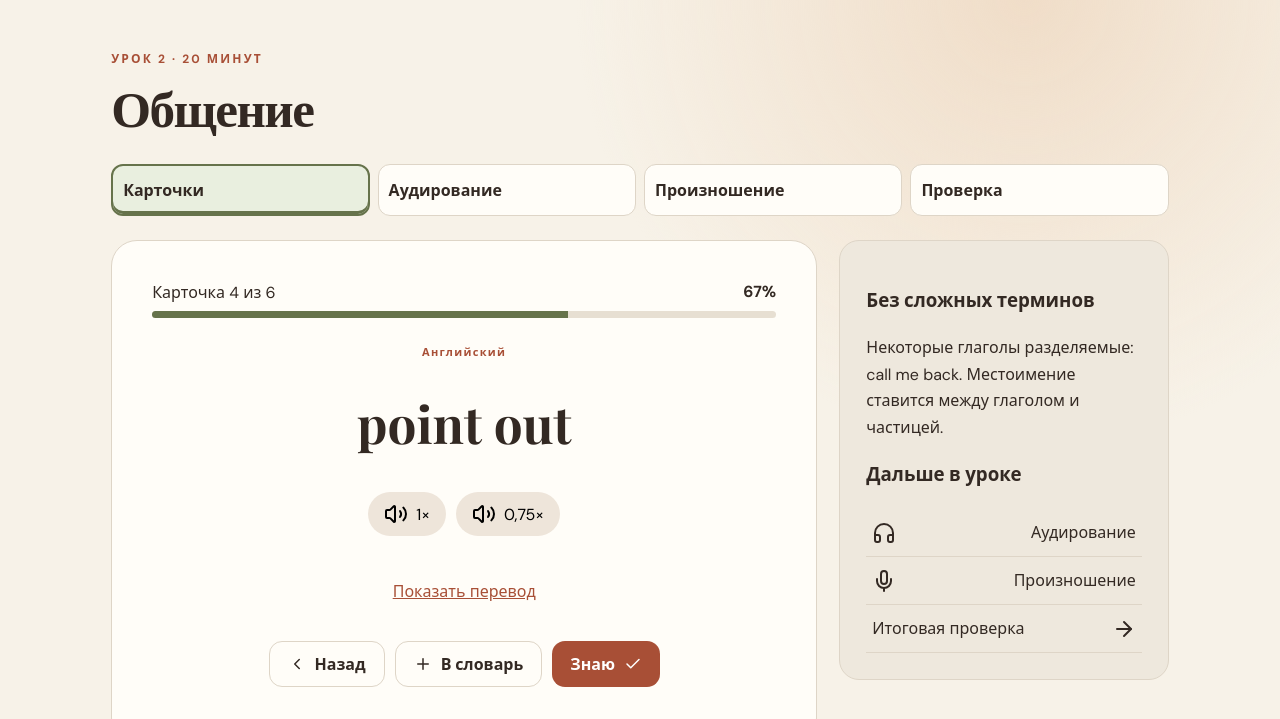
Test case: shows the example translation and card-specific checked missions, refreshing session on Know
Check: the heading "point out" is shown, box left=357, top=389, right=572, bottom=457
Step 1. Click the button "Показать перевод" → (464, 591), box left=387, top=569, right=542, bottom=613
(page scrolled)
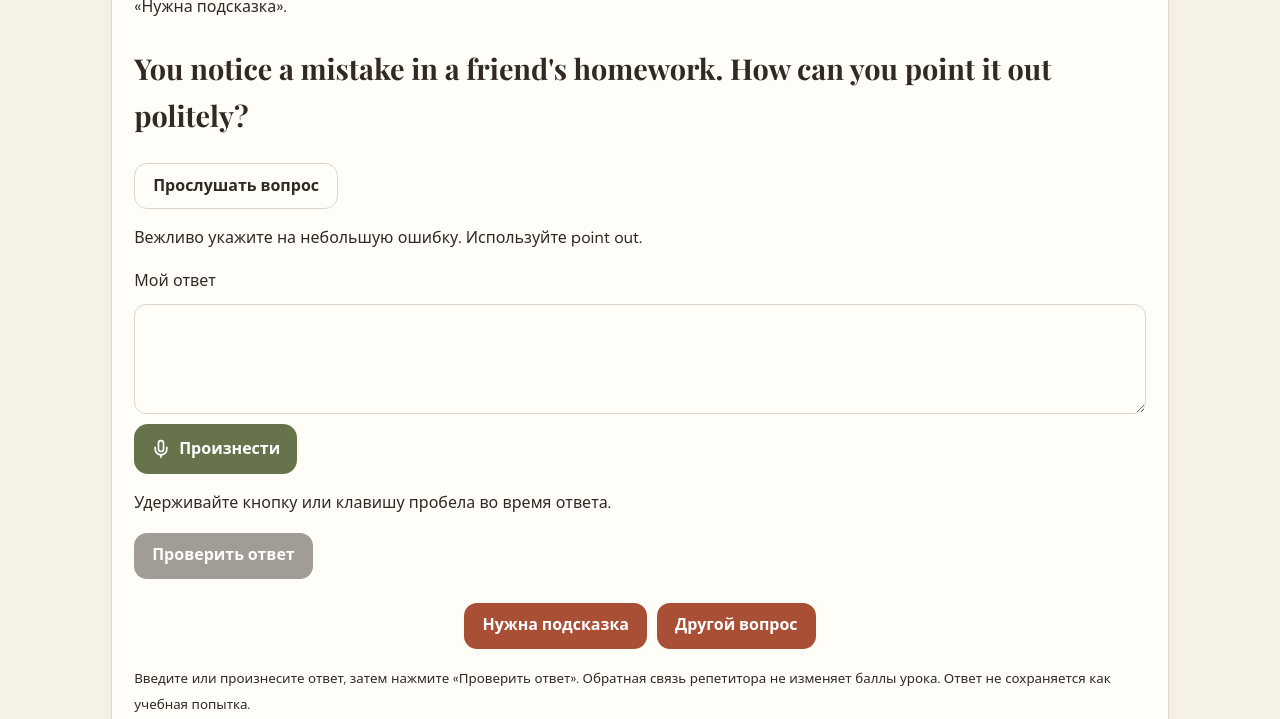
Check: the heading "You notice a mistake" is shown, box left=134, top=44, right=1146, bottom=140
Check: the button "Проверить ответ" is disabled, box left=134, top=533, right=313, bottom=579
Step 2. Type "Can I point out a mistake?" into the text box → (640, 359), box left=134, top=304, right=1146, bottom=414
(page scrolled)
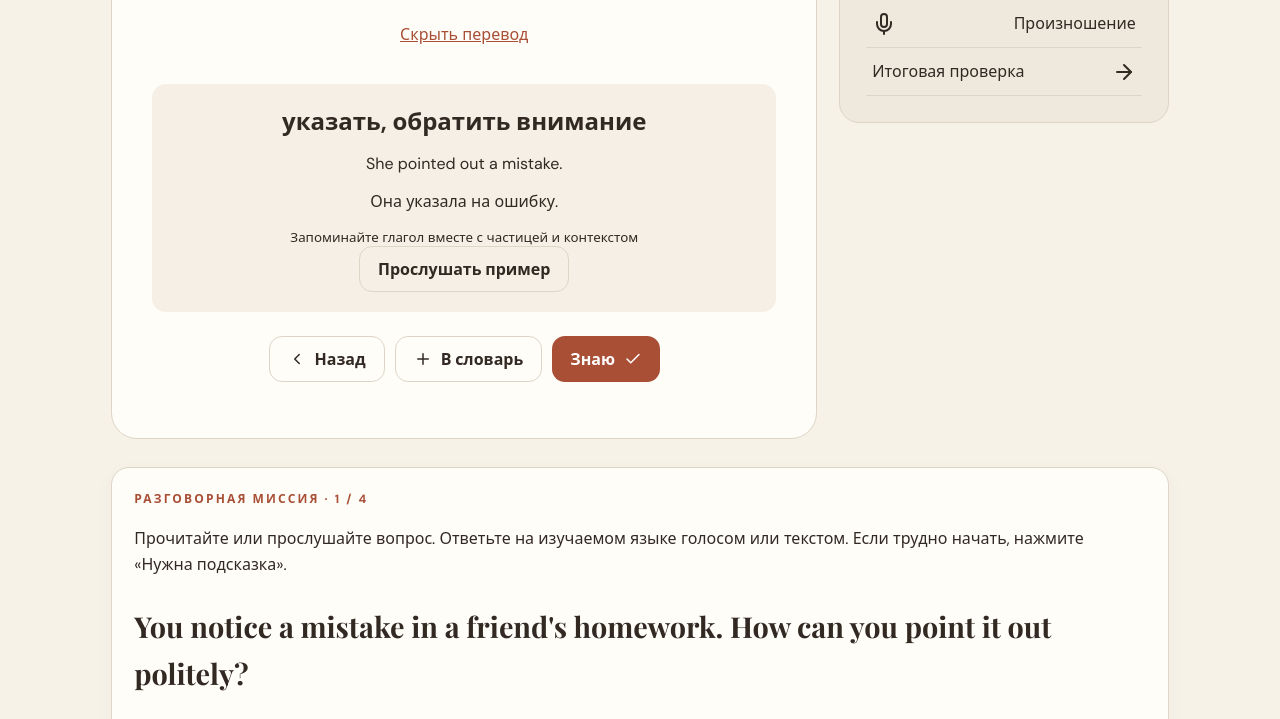
Step 3. Click the button "Знаю" → (606, 359), box left=552, top=336, right=660, bottom=382
(page scrolled)
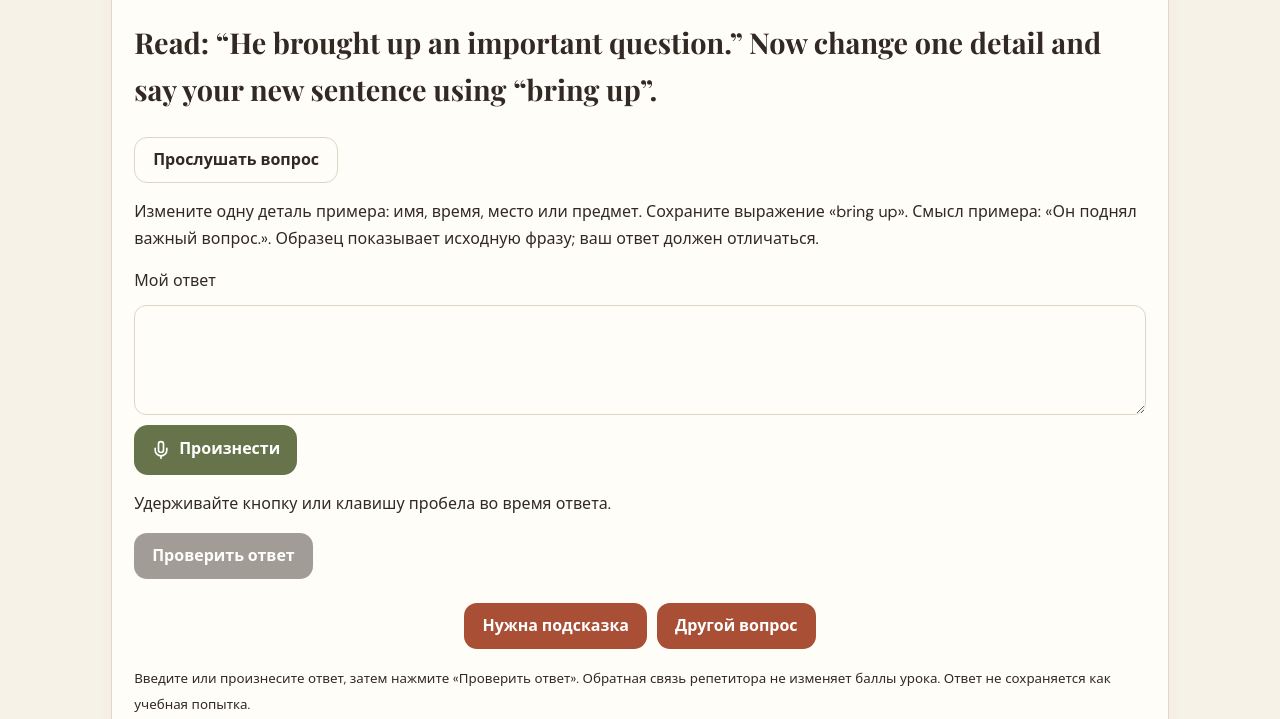
Check: the heading "You notice a mistake" is gone
Check: the text box is empty, box left=134, top=305, right=1146, bottom=415
